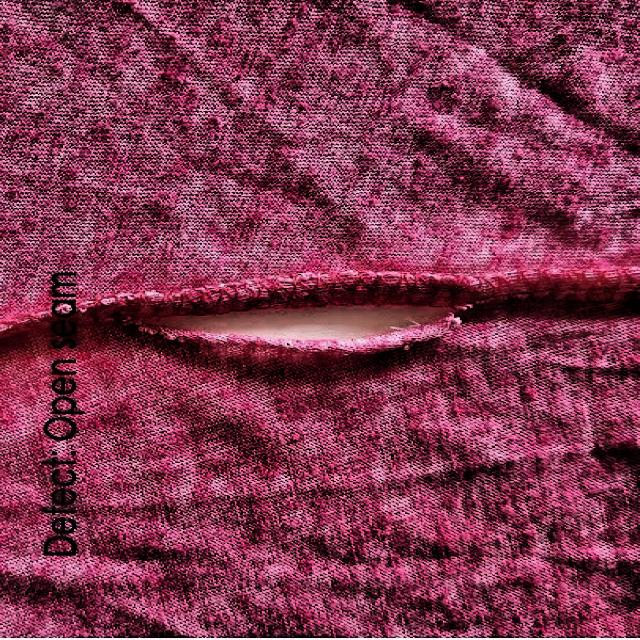seam: (119, 259, 522, 397)
